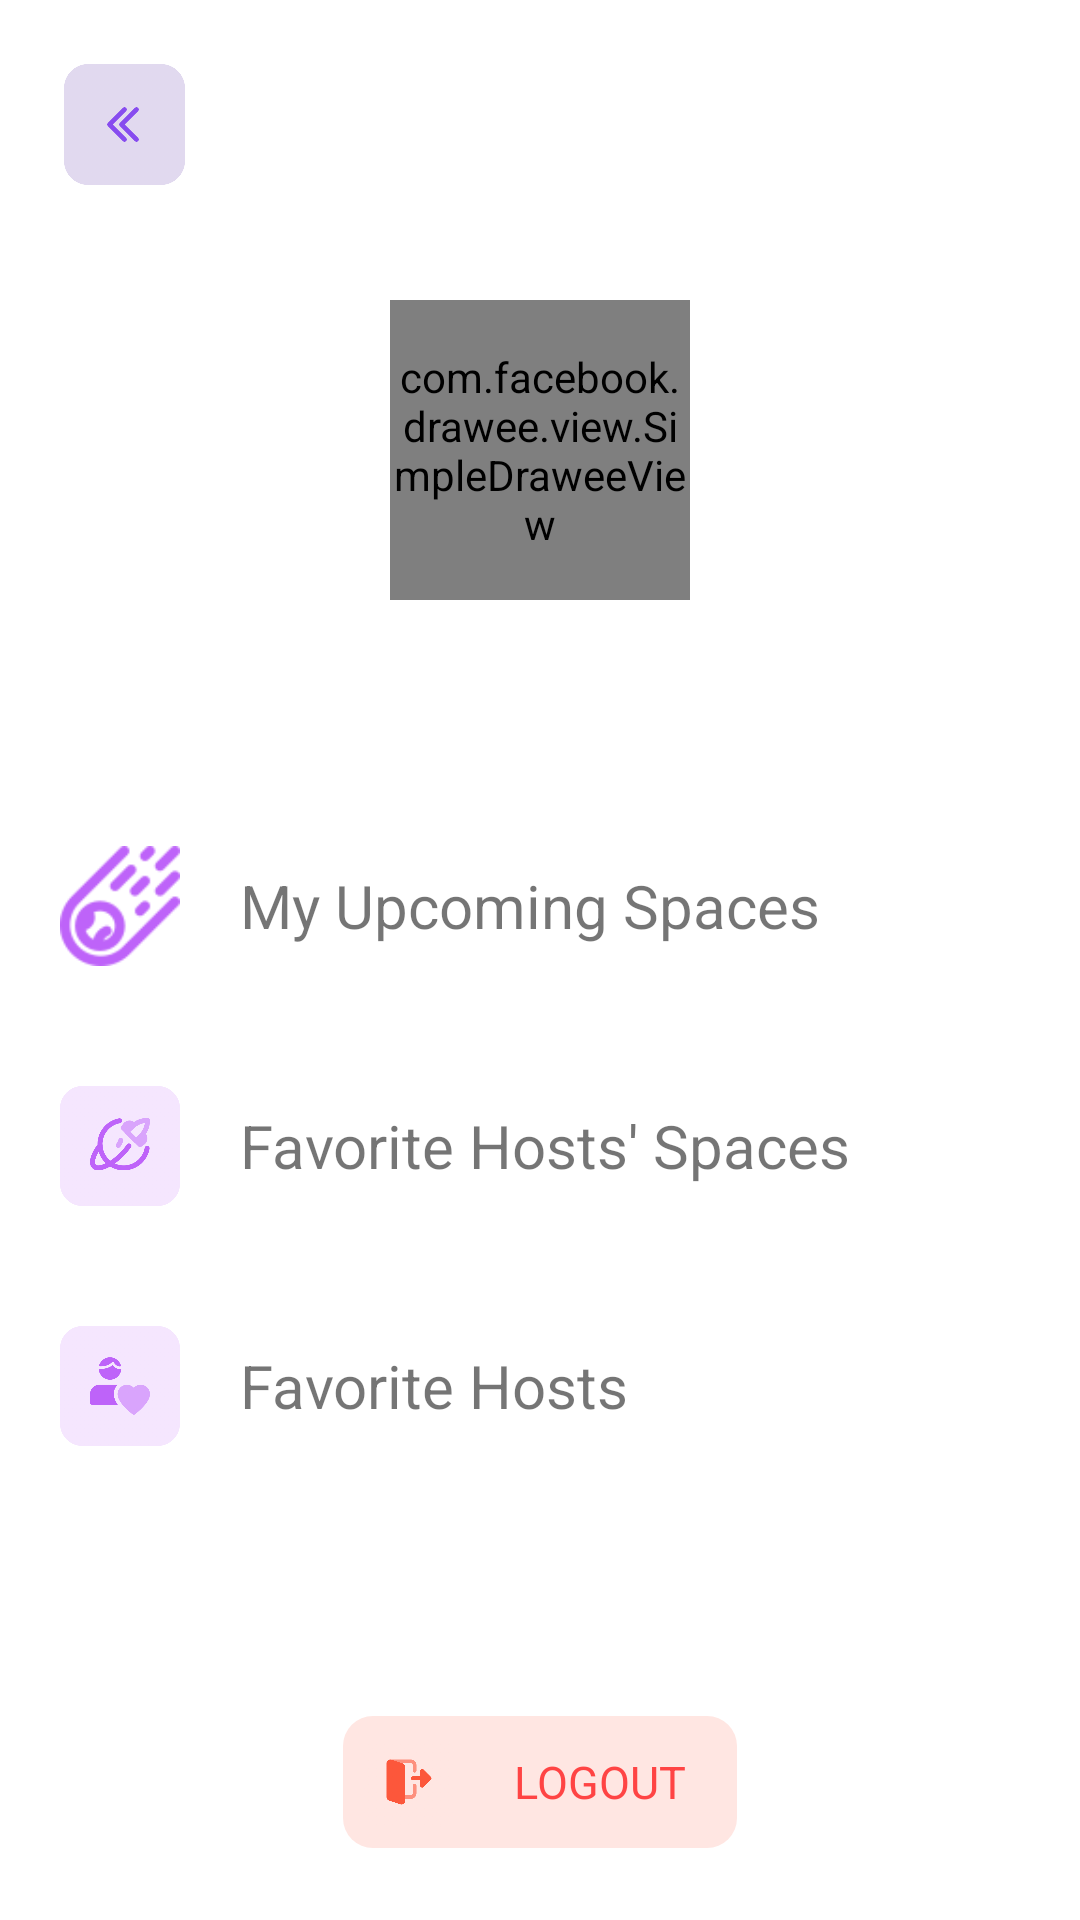

Icons on this 1080*1920 Android screen, each with the point to tap as [x,y]:
back: [124,124]
fave host spaces: [120,1146]
favourite hosts: [120,1386]
